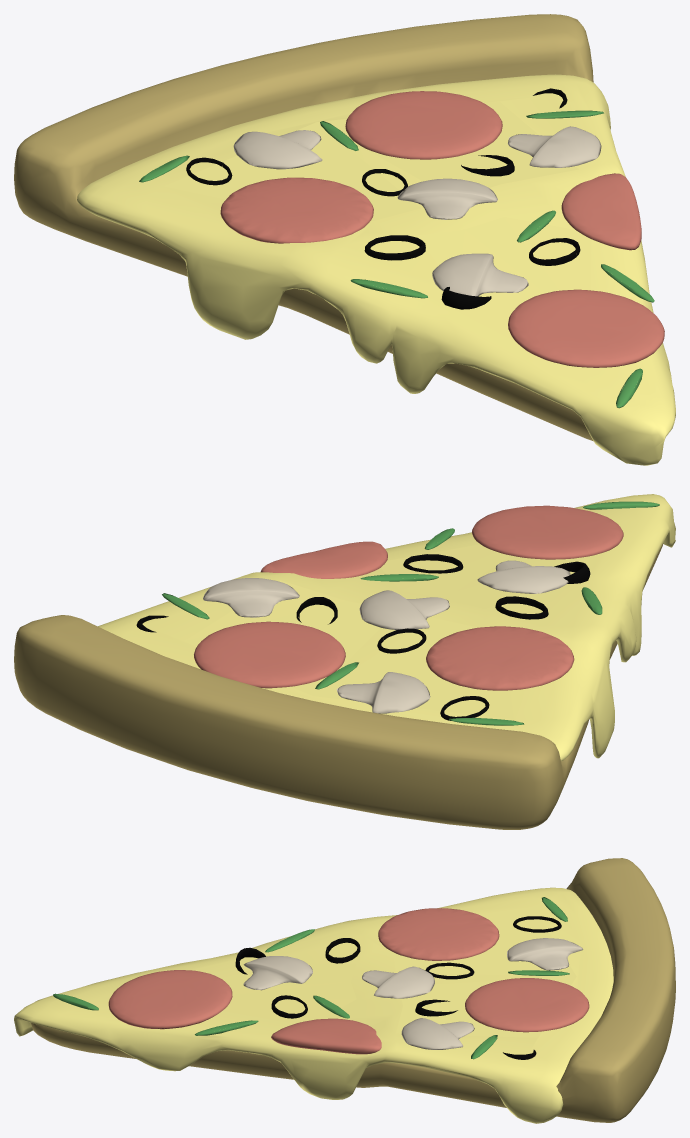
File: definingfeatures-pizza.glb
3 views of the same model, one above another, from view 1: azimuth 30°, elevation 25°; view 2: azimuth 150°, elevation 25°; view 3: azimuth 270°, elevation 25° (orthographic). The views are drawn at different scales.
Visible parts, largest first — view 1: syr_syr_color_0, korka_lambert3_0, 3 kolbasa_lambert4_0.001, 2 kolbasa_lambert4_0.003, 1 kolbasa_lambert4_0.002, 4 kolbasa_lambert4_0, grib_grib_color_0.001, grib_grib_color_0.002, grib_grib_color_0.003, grib_grib_color_0, olivki_lambert6_0.002, olivki_lambert6_0.003; view 2: korka_lambert3_0, syr_syr_color_0, 2 kolbasa_lambert4_0.003, 1 kolbasa_lambert4_0.002, 3 kolbasa_lambert4_0.001, 4 kolbasa_lambert4_0, grib_grib_color_0, grib_grib_color_0.003, grib_grib_color_0.002, grib_grib_color_0.001, olivki_lambert6_0.002, olivki_lambert6_0.004 (+2 smaller); view 3: syr_syr_color_0, korka_lambert3_0, 3 kolbasa_lambert4_0.001, 2 kolbasa_lambert4_0.003, 1 kolbasa_lambert4_0.002, 4 kolbasa_lambert4_0, grib_grib_color_0.001, grib_grib_color_0, grib_grib_color_0.003, grib_grib_color_0.002, olivki_lambert6_0.002, zelen_lambert7_0.
Boxes of the visible parts, left/top/right/bottom form: syr_syr_color_0: left=77, top=74, right=675, bottom=465; korka_lambert3_0: left=14, top=14, right=593, bottom=441; 3 kolbasa_lambert4_0.001: left=508, top=289, right=664, bottom=367; 2 kolbasa_lambert4_0.003: left=345, top=91, right=502, bottom=159; 1 kolbasa_lambert4_0.002: left=220, top=177, right=373, bottom=243; 4 kolbasa_lambert4_0: left=561, top=173, right=641, bottom=250; grib_grib_color_0.001: left=432, top=253, right=528, bottom=296; grib_grib_color_0.002: left=233, top=130, right=322, bottom=169; grib_grib_color_0.003: left=507, top=126, right=601, bottom=167; grib_grib_color_0: left=397, top=178, right=497, bottom=219; olivki_lambert6_0.002: left=364, top=235, right=425, bottom=260; olivki_lambert6_0.003: left=441, top=287, right=491, bottom=309; korka_lambert3_0: left=14, top=543, right=663, bottom=829; syr_syr_color_0: left=98, top=494, right=675, bottom=761; 2 kolbasa_lambert4_0.003: left=194, top=621, right=345, bottom=688; 1 kolbasa_lambert4_0.002: left=426, top=626, right=574, bottom=690; 3 kolbasa_lambert4_0.001: left=472, top=505, right=623, bottom=559; 4 kolbasa_lambert4_0: left=260, top=541, right=387, bottom=578; grib_grib_color_0: left=359, top=590, right=449, bottom=629; grib_grib_color_0.003: left=203, top=578, right=299, bottom=617; grib_grib_color_0.002: left=336, top=672, right=430, bottom=713; grib_grib_color_0.001: left=477, top=560, right=570, bottom=593; olivki_lambert6_0.002: left=495, top=596, right=548, bottom=619; olivki_lambert6_0.004: left=403, top=554, right=463, bottom=573; syr_syr_color_0: left=14, top=887, right=613, bottom=1123; korka_lambert3_0: left=31, top=858, right=675, bottom=1122; 3 kolbasa_lambert4_0.001: left=108, top=970, right=232, bottom=1029; 2 kolbasa_lambert4_0.003: left=465, top=978, right=589, bottom=1032; 1 kolbasa_lambert4_0.002: left=378, top=908, right=499, bottom=960; 4 kolbasa_lambert4_0: left=271, top=1018, right=381, bottom=1054; grib_grib_color_0.001: left=243, top=956, right=312, bottom=990; grib_grib_color_0: left=362, top=966, right=434, bottom=998; grib_grib_color_0.003: left=401, top=1018, right=474, bottom=1049; grib_grib_color_0.002: left=507, top=938, right=583, bottom=970; olivki_lambert6_0.002: left=325, top=938, right=360, bottom=963; zelen_lambert7_0: left=195, top=1020, right=258, bottom=1035.
Bounding box in the file's own units: 0.1393 × 0.0272 × 0.1797.
